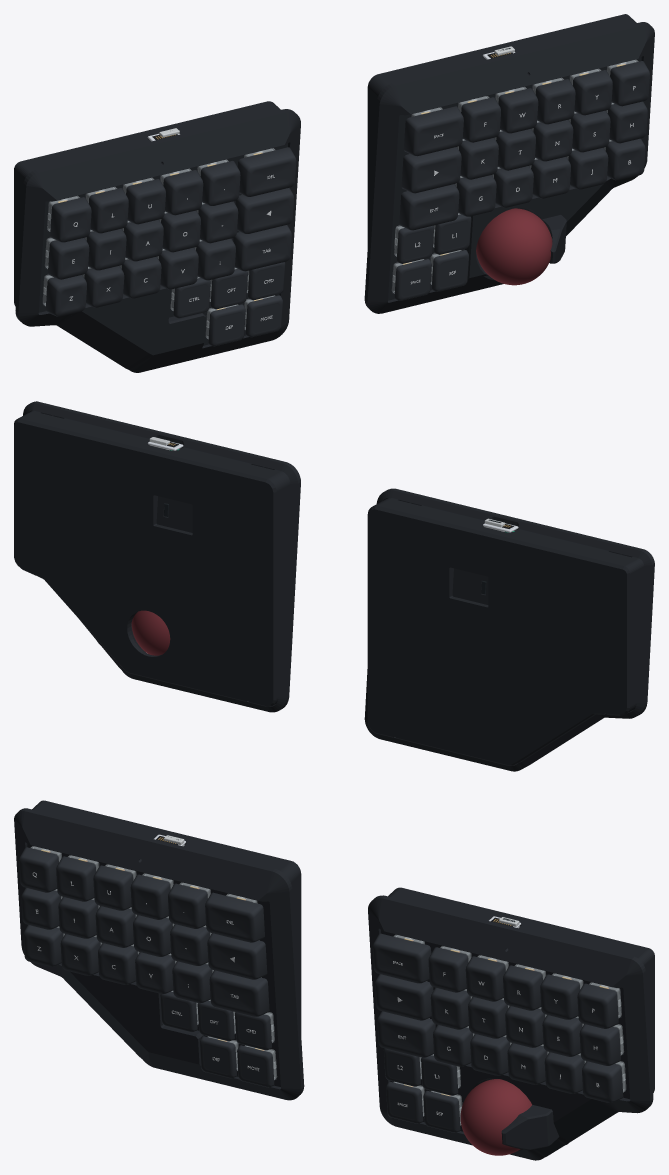
File: surround1x0-akdk.glb
3 views of the same model, one above another, from view 1: azimuth 30°, elevation 25°; view 2: azimuth 150°, elevation 25°; view 3: azimuth 330°, elevation 25° (orthographic).
Visible parts, largest first — view 1: Left_Top_Case, Right_Top_Case, Right_Trackball_34mm, Right_Bottom_Case, Left_Bottom_Case, Right_Keycap_07_SPACE, Left_Keycap_06_DEL, Right_Keycap_31_ENT, Right_Keycap_19_▶, Left_Keycap_30_TAB, Left_Keycap_18_◀, Left_Keycap_01_Q (+38 smaller); view 2: Left_Bottom_Case, Right_Bottom_Case, Right_Top_Case, Left_Top_Case, Right_Trackball_34mm; view 3: Left_Top_Case, Right_Top_Case, Left_Bottom_Case, Right_Bottom_Case, Right_Trackball_34mm, Left_Keycap_06_DEL, Right_Keycap_07_SPACE, Left_Keycap_30_TAB, Left_Keycap_18_◀, Right_Keycap_31_ENT, Right_Keycap_19_▶, Right_Keycap_12_P (+38 smaller).
Part boxes in pixels (box(x1,y1,x2,y2)): Left_Top_Case: box(15, 109, 300, 372); Right_Top_Case: box(364, 22, 654, 313); Right_Trackball_34mm: box(476, 208, 552, 285); Right_Bottom_Case: box(367, 14, 636, 246); Left_Bottom_Case: box(14, 101, 280, 306); Right_Keycap_07_SPACE: box(403, 106, 463, 156); Left_Keycap_06_DEL: box(237, 147, 296, 196); Right_Keycap_31_ENT: box(399, 184, 459, 230); Right_Keycap_19_▶: box(401, 147, 461, 193); Left_Keycap_30_TAB: box(233, 225, 291, 271); Left_Keycap_18_◀: box(235, 187, 293, 233); Left_Keycap_01_Q: box(50, 197, 91, 242); Left_Bottom_Case: box(367, 497, 644, 765); Right_Bottom_Case: box(14, 410, 290, 706); Right_Top_Case: box(23, 401, 300, 712); Left_Top_Case: box(364, 488, 654, 771); Right_Trackball_34mm: box(131, 610, 170, 655); Left_Top_Case: box(14, 808, 304, 1100); Right_Top_Case: box(368, 895, 653, 1160); Left_Bottom_Case: box(32, 800, 301, 1034); Right_Bottom_Case: box(388, 887, 654, 1092); Right_Trackball_34mm: box(460, 1079, 531, 1155); Left_Keycap_06_DEL: box(205, 892, 264, 942); Right_Keycap_07_SPACE: box(372, 933, 431, 983); Left_Keycap_30_TAB: box(209, 970, 269, 1016); Left_Keycap_18_◀: box(207, 933, 267, 979); Right_Keycap_31_ENT: box(377, 1011, 435, 1057); Right_Keycap_19_▶: box(375, 974, 433, 1020); Right_Keycap_12_P: box(577, 983, 618, 1028).
Bounding box in the file's own units: 321 × 117 × 35.77.
